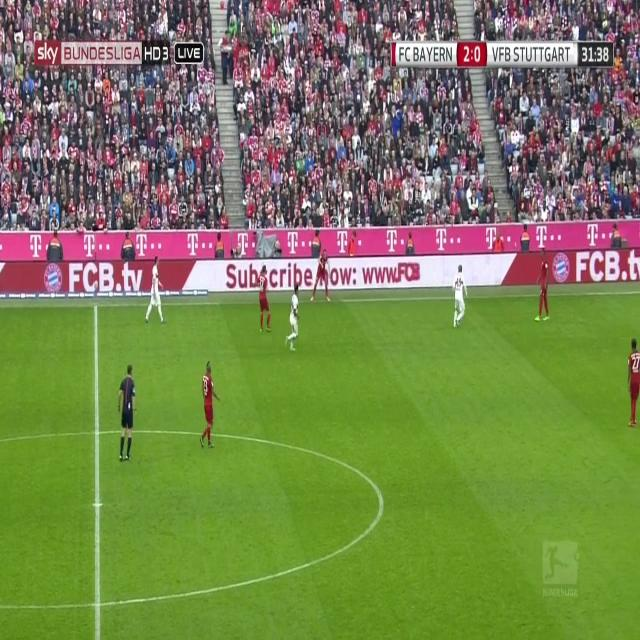Player: (199, 359, 221, 450), (143, 256, 166, 326), (254, 265, 274, 335), (533, 249, 550, 323), (309, 249, 331, 306), (627, 336, 640, 431), (283, 283, 300, 355), (451, 262, 468, 331)
Referee: (116, 362, 138, 465)
